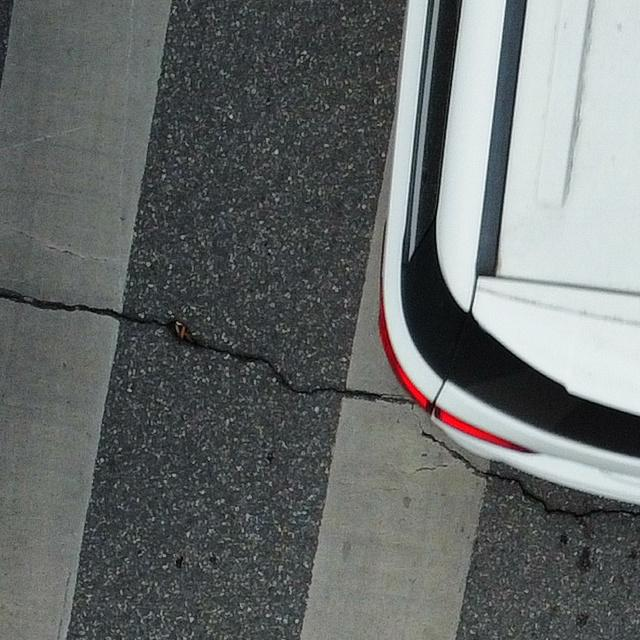TransverseCrack: (2, 288, 419, 406), (415, 425, 640, 520)
